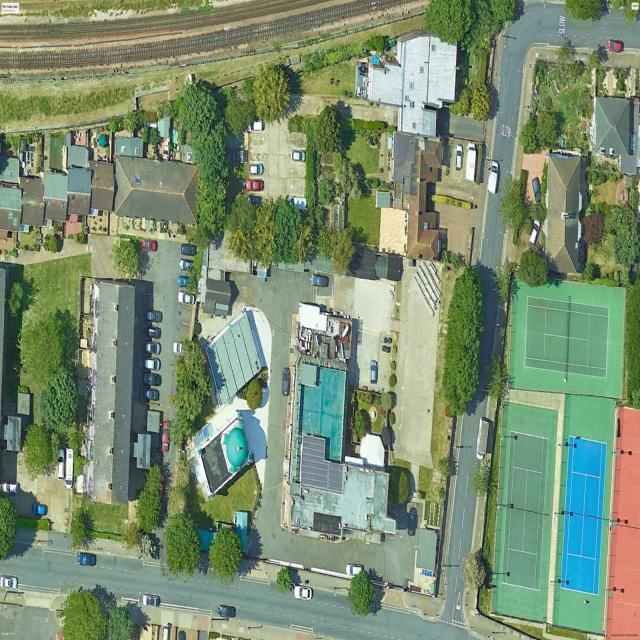Home: (89, 279, 141, 505), (364, 32, 457, 137), (380, 132, 447, 260), (115, 157, 199, 224), (544, 153, 587, 275), (591, 97, 631, 156), (67, 167, 91, 219), (89, 162, 114, 211), (43, 172, 68, 221), (20, 176, 44, 227), (0, 186, 22, 232)
mosque: (197, 412, 253, 499)
